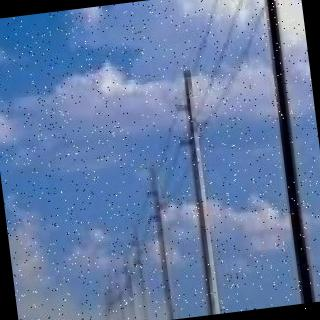smoke: (9, 231, 150, 320)
